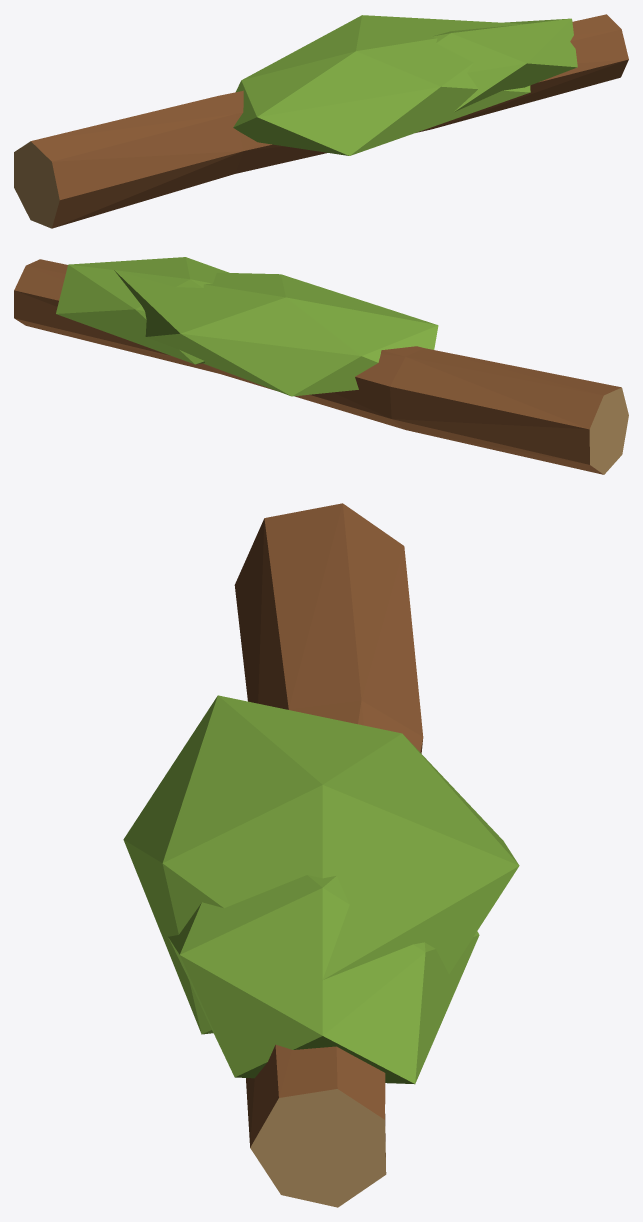
Rendered from HS_LP_Log_Moss_01.fbx.
3 views of the same model, one above another, from view 1: azimuth 30°, elevation 25°; view 2: azimuth 150°, elevation 25°; view 3: azimuth 270°, elevation 25° (orthographic). The views are drawn at different scales.
Parts seen in each view (by area): view 1: HS_LP_Log_Moss_01; view 2: HS_LP_Log_Moss_01; view 3: HS_LP_Log_Moss_01.
Part boxes in pixels (left/top/right/bottom): HS_LP_Log_Moss_01: left=14, top=14, right=628, bottom=228; HS_LP_Log_Moss_01: left=14, top=257, right=628, bottom=474; HS_LP_Log_Moss_01: left=123, top=503, right=519, bottom=1207.
Size of the model in its own units: 245 by 38.22 by 72.77.
